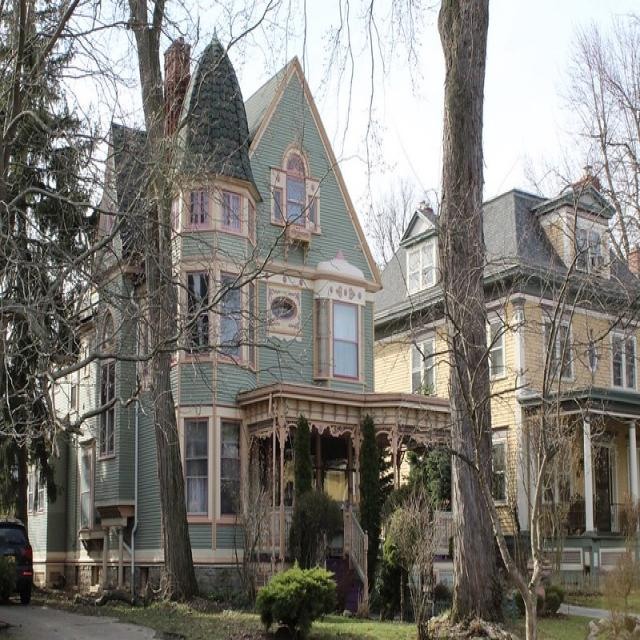Normal_building: (18, 35, 380, 594), (370, 150, 640, 622)
